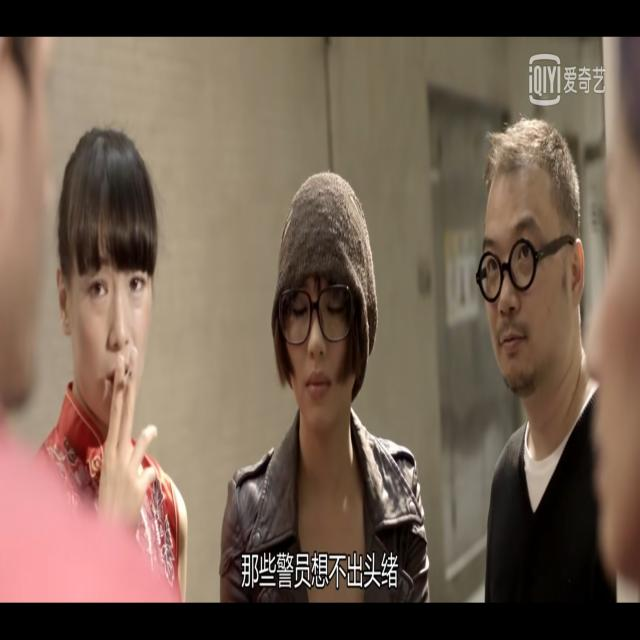cigarette: (118, 368, 137, 391)
